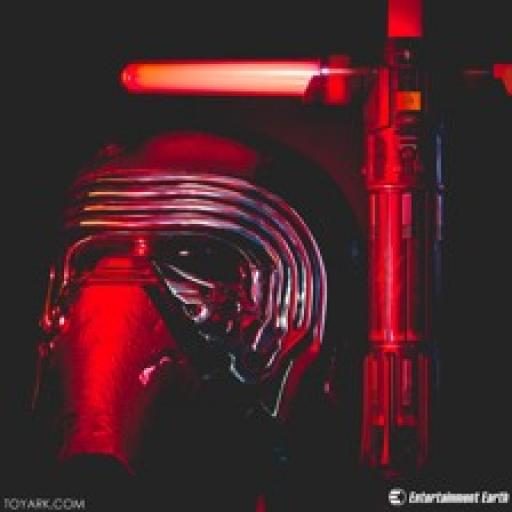sith saber: (102, 0, 512, 482)
